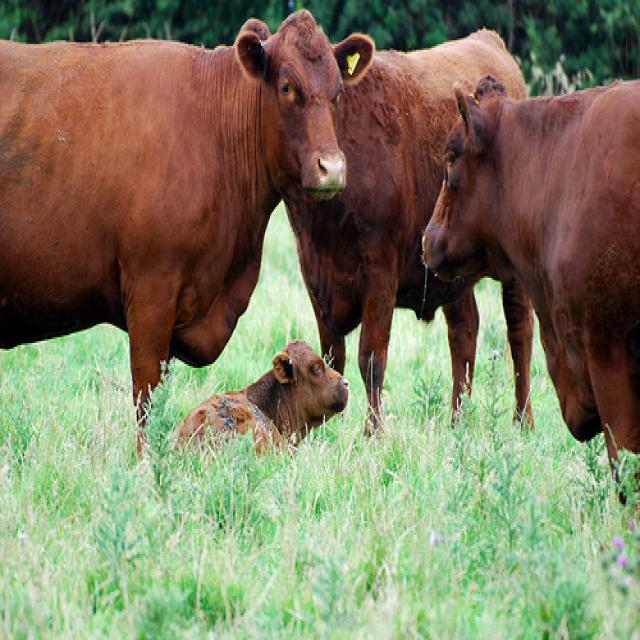cow: (1, 9, 376, 459), (281, 28, 535, 432), (420, 74, 640, 507), (170, 338, 350, 459)
